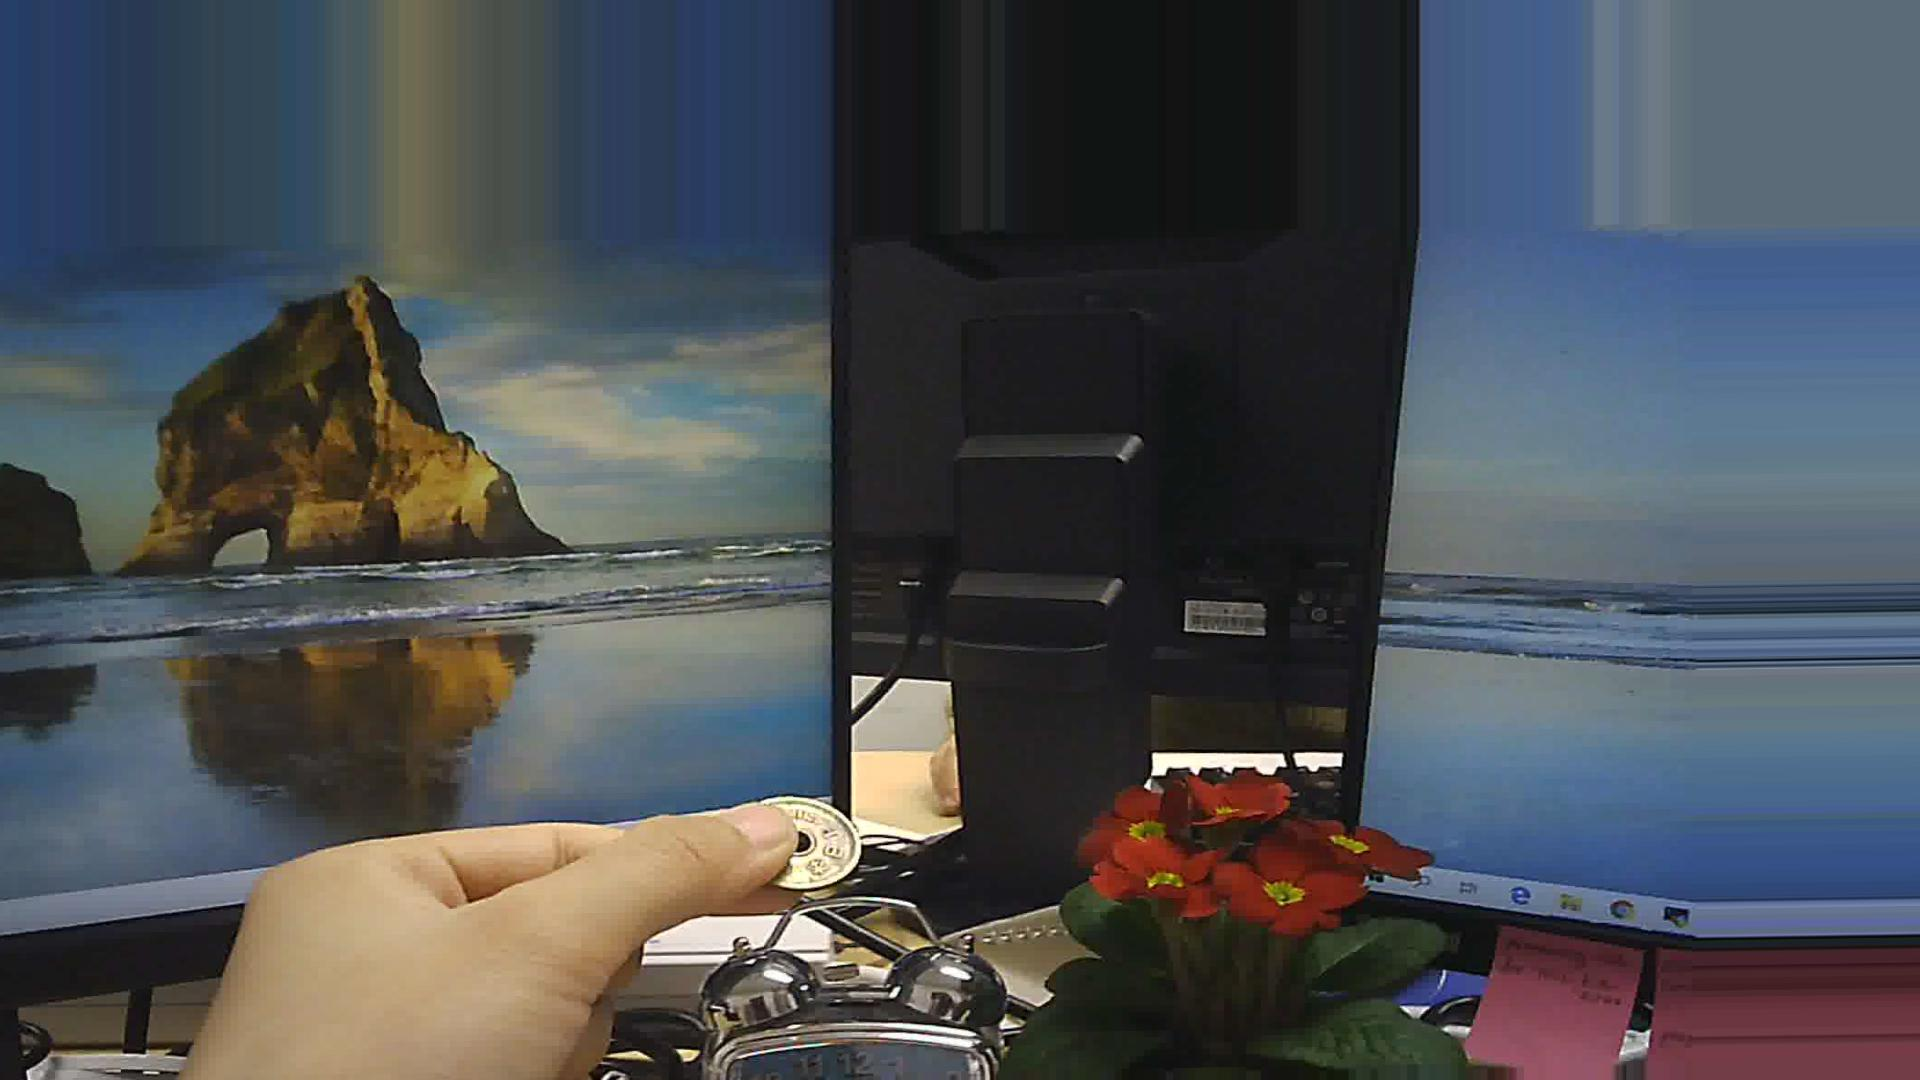5 Yen: (749, 795, 868, 895)
